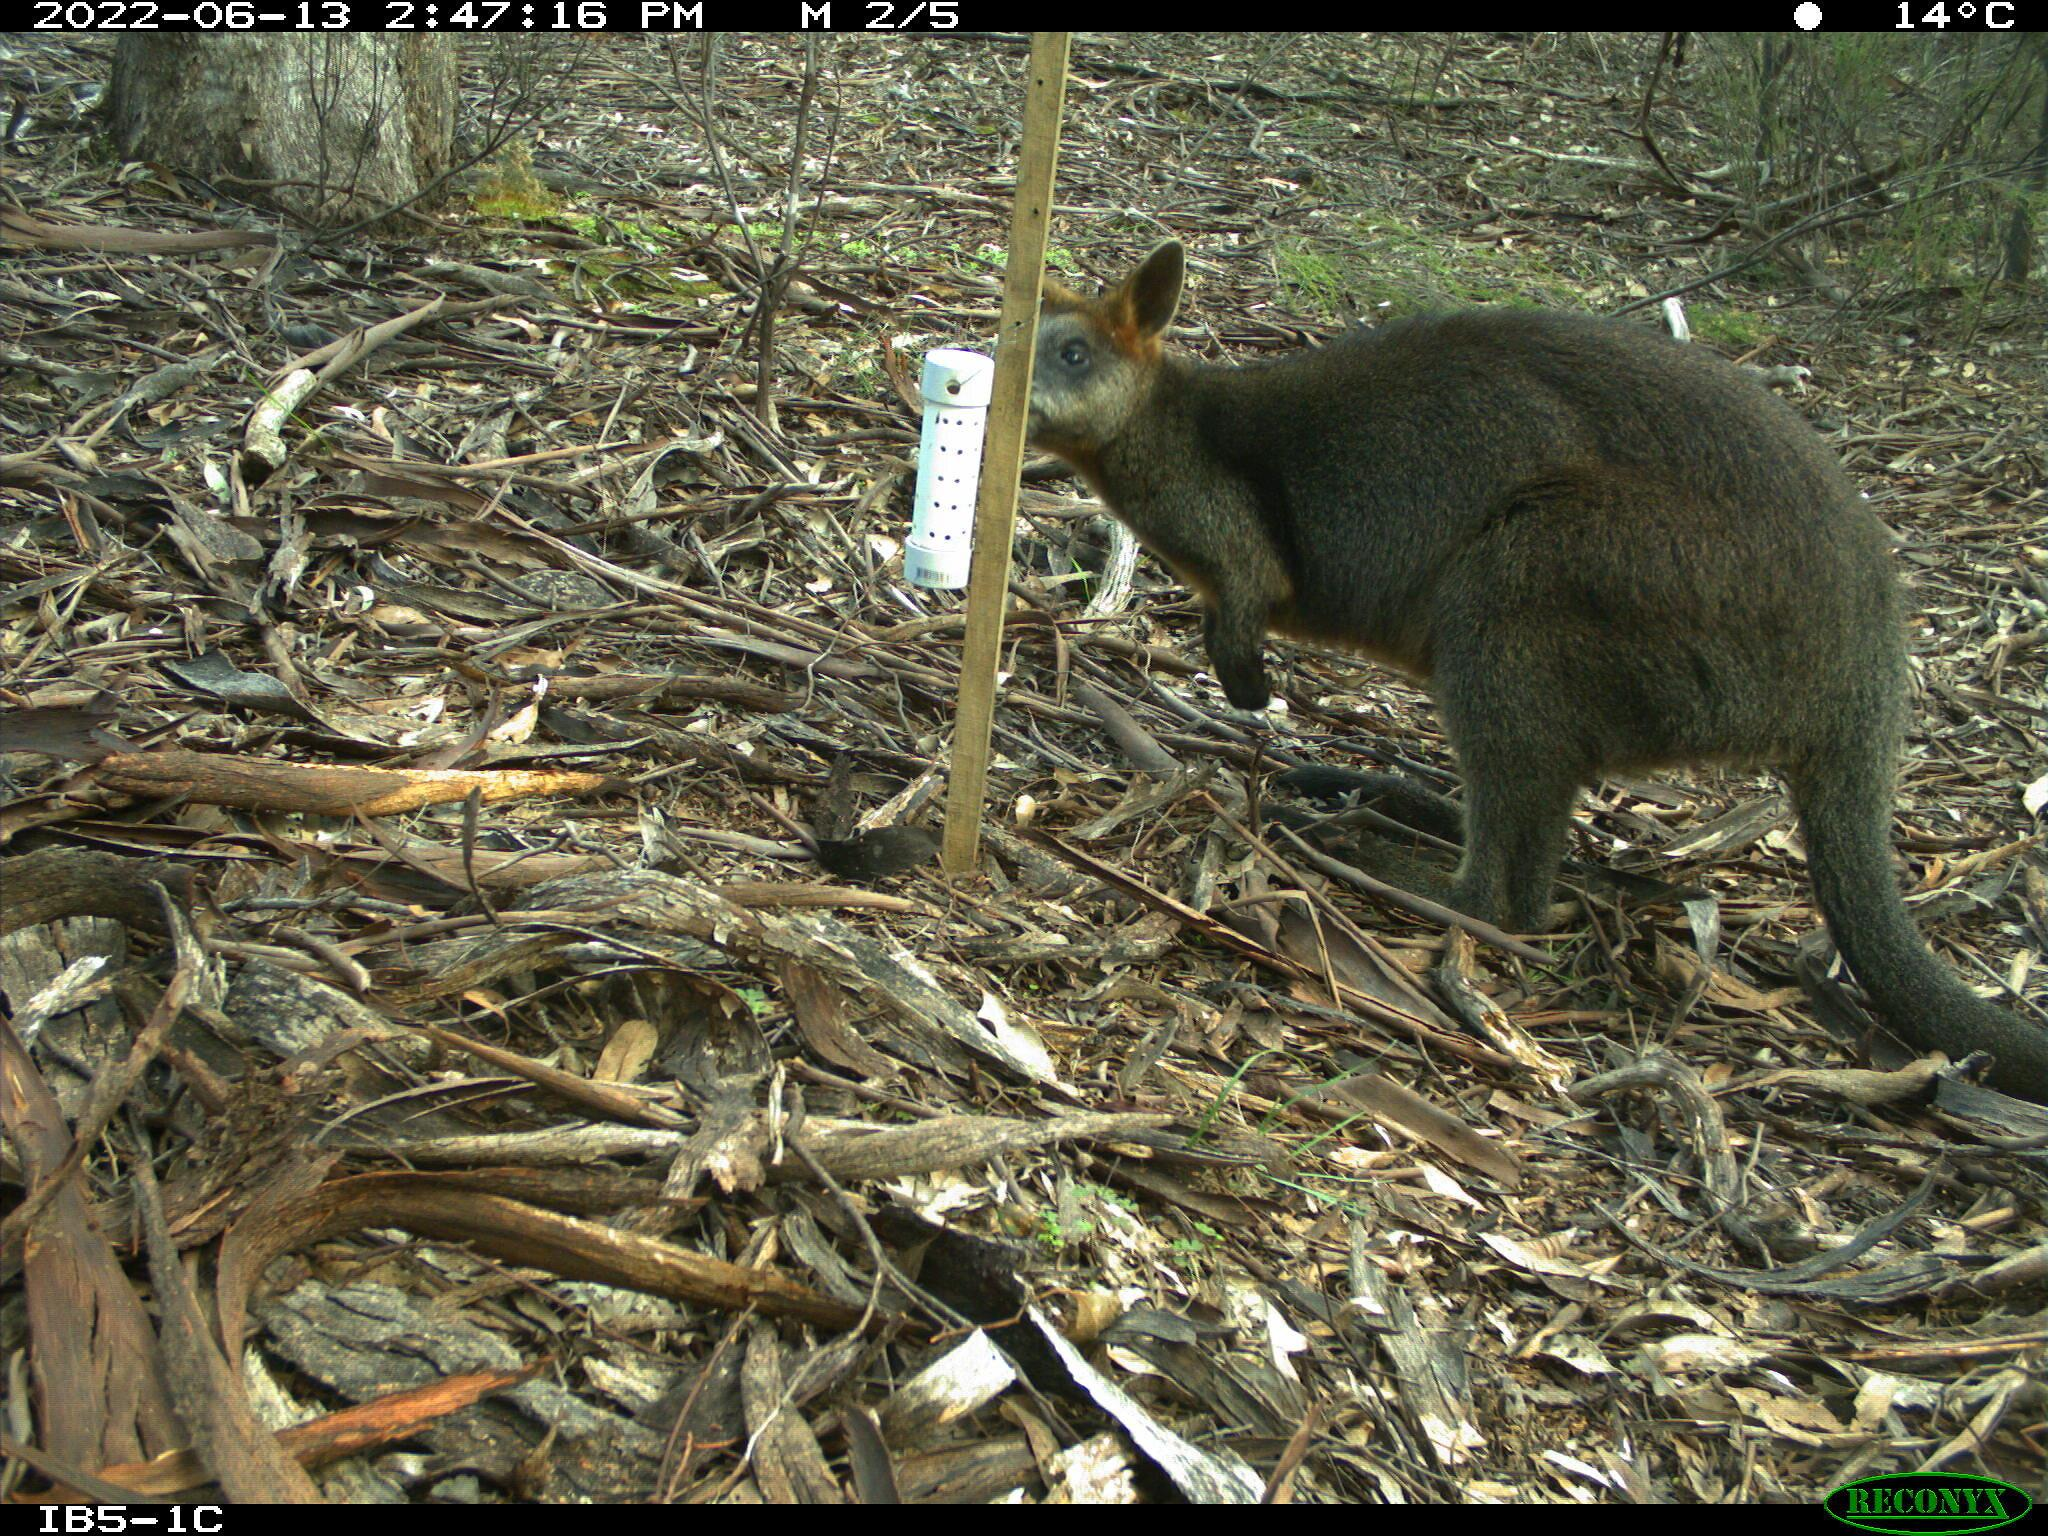Swamp wallaby: (1016, 292, 2048, 1363)
